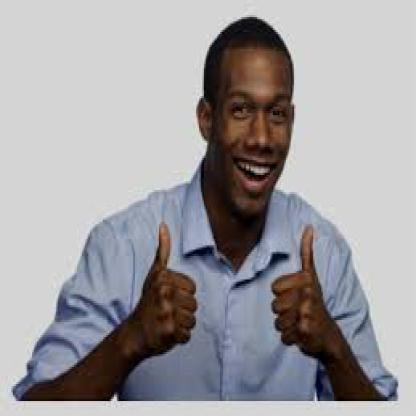Thumbs up: (132, 226, 207, 347), (270, 206, 328, 355)
